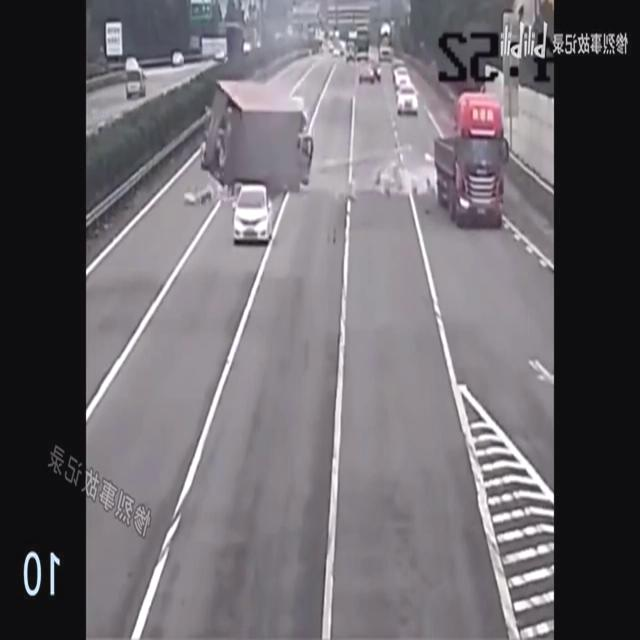accident: (343, 92, 509, 232), (182, 78, 321, 204)
non-accident: (392, 65, 422, 117), (353, 23, 392, 62)
